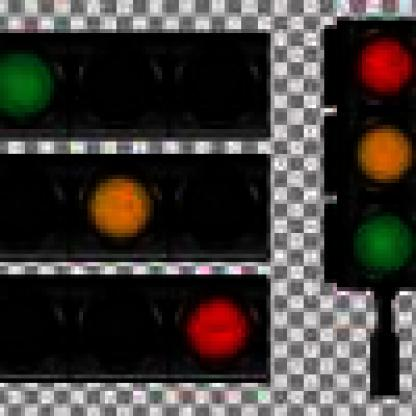traffic-light: (0, 29, 271, 142), (0, 158, 266, 266), (0, 278, 266, 382), (328, 17, 412, 295)
